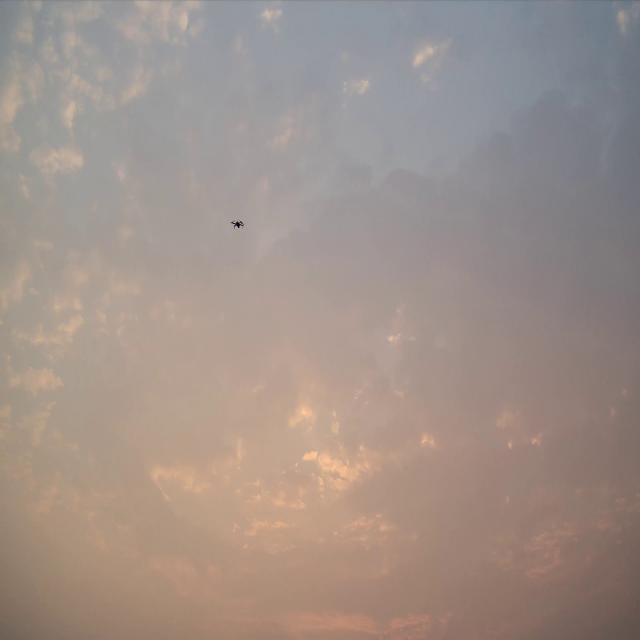UAV: (230, 219, 246, 229)
